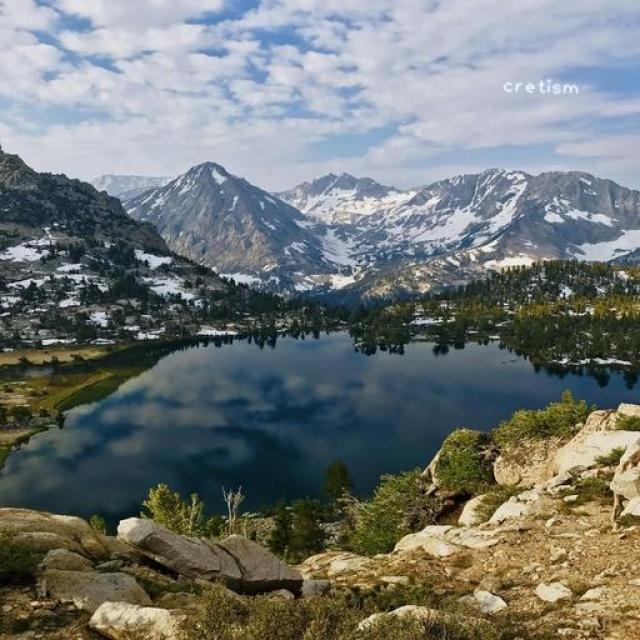watermark: (496, 77, 591, 96)
